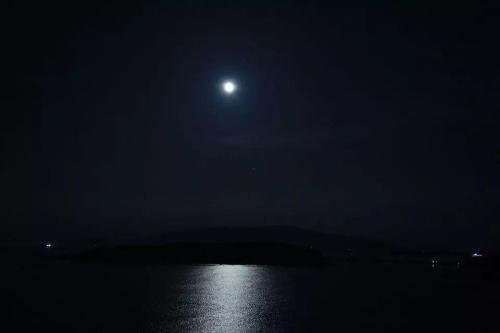moon: (221, 79, 235, 93)
